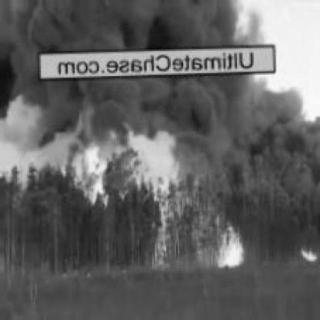Smoke: (16, 2, 274, 120)
